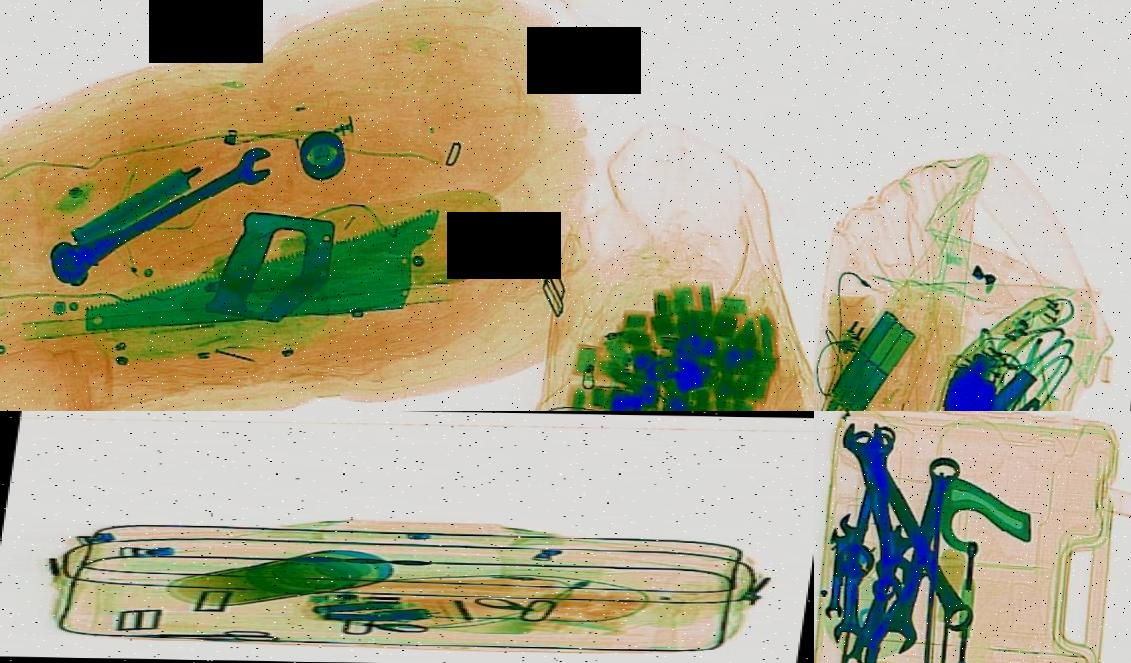Pliers: (956, 374, 1053, 411)
Scissors: (123, 627, 281, 642)
Wrench: (18, 128, 310, 300), (838, 411, 988, 645), (868, 433, 972, 663), (831, 411, 925, 601), (841, 512, 919, 663), (842, 550, 903, 663), (833, 512, 872, 646), (825, 527, 850, 621)
